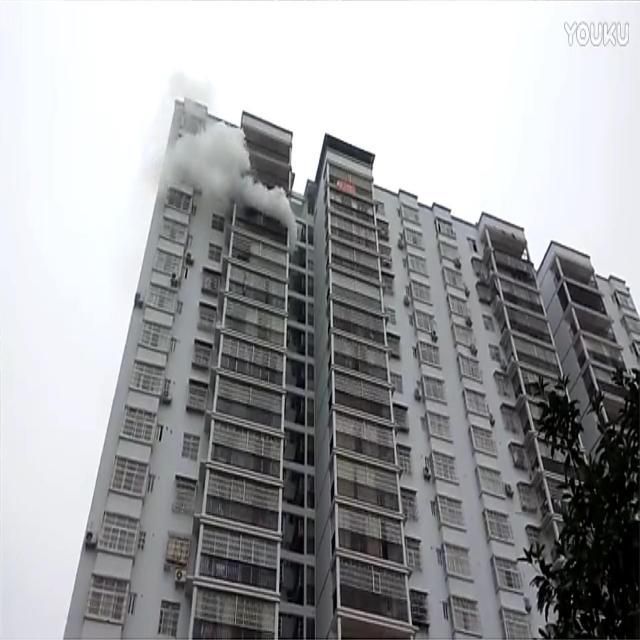Smoke: (153, 122, 298, 258)
